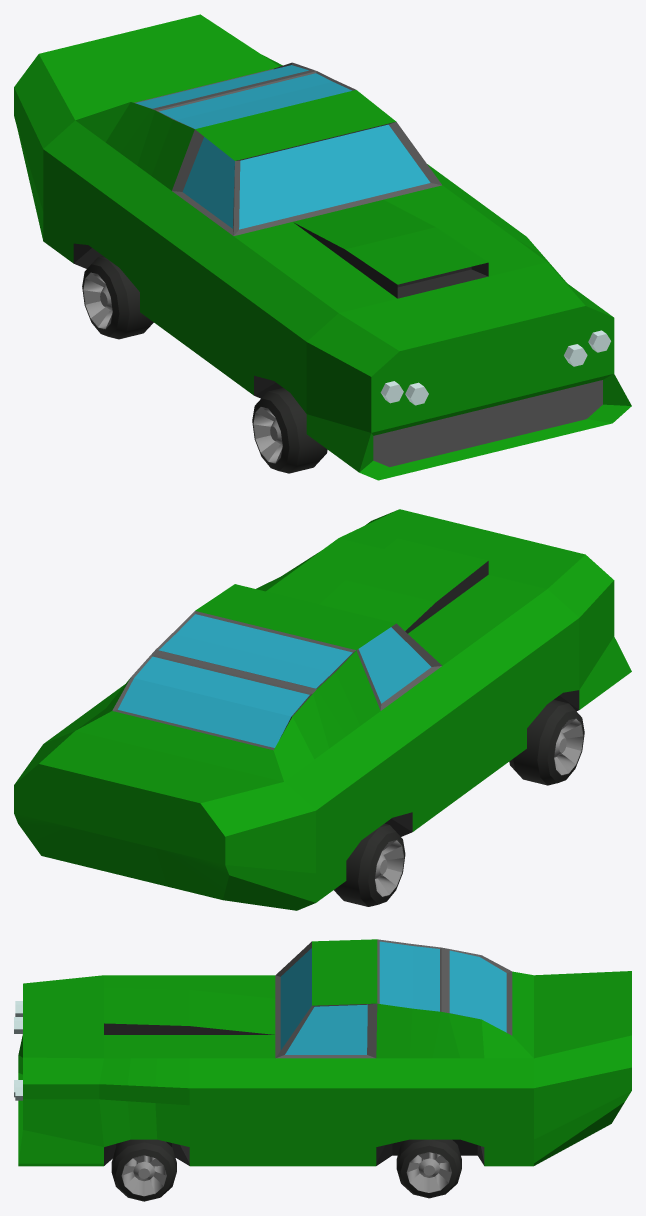
The model's file is autogroen.fbx.
3 renders of one model, top to bottom at view 1: azimuth 30°, elevation 25°; view 2: azimuth 150°, elevation 25°; view 3: azimuth 270°, elevation 25°, orthographic. The views are drawn at different scales.
Visible parts, largest first — view 1: pCube7, links_achter3; view 2: pCube7, links_achter3; view 3: pCube7, links_achter3.
Boxes of the visible parts, left/top/right/bottom form: pCube7: left=14, top=14, right=631, bottom=480; links_achter3: left=82, top=256, right=327, bottom=473; pCube7: left=14, top=509, right=631, bottom=910; links_achter3: left=334, top=699, right=584, bottom=906; pCube7: left=14, top=939, right=631, bottom=1166; links_achter3: left=111, top=1139, right=461, bottom=1201.
Size of the model in its own units: 2.15 by 1.56 by 4.81.
